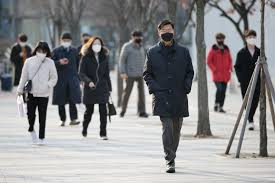mask: (156, 17, 178, 44), (33, 39, 49, 63), (242, 27, 258, 47), (89, 33, 103, 54), (130, 27, 144, 47), (60, 29, 71, 49), (213, 31, 226, 47), (16, 36, 28, 50), (78, 32, 87, 46)
